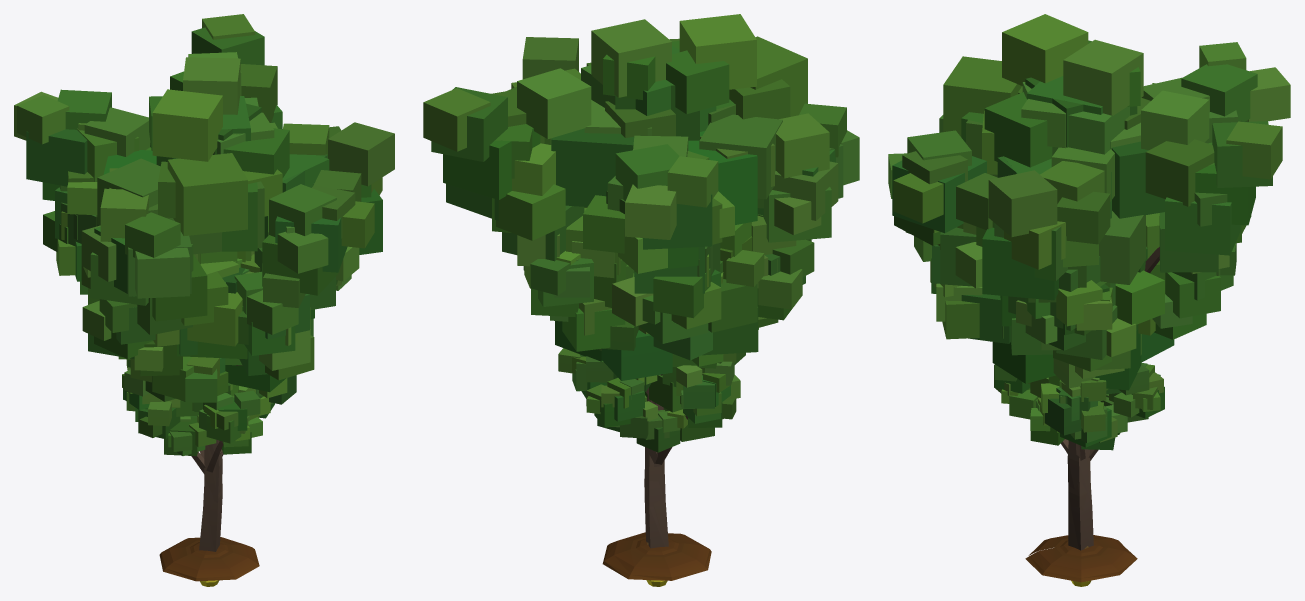
Rendered from pear.glb.
The picture shows the model from 3 angles, left to right: view 1: azimuth 30°, elevation 25°; view 2: azimuth 150°, elevation 25°; view 3: azimuth 270°, elevation 25°; orthographic projection. The views are drawn at different scales.
Parts seen in each view (by area): view 1: stage4_foliage, stage3_foliage, stage4_l1_foliage, stage2_foliage, stage2_soil, stage3_l1_foliage, stage2_l1_foliage, stage4_l1_bark, stage4_bark; view 2: stage4_foliage, stage3_foliage, stage4_l1_foliage, stage2_foliage, stage3_l1_foliage, stage2_soil, stage2_l1_foliage, stage4_bark, stage4_l1_bark; view 3: stage4_foliage, stage3_foliage, stage4_l1_foliage, stage2_foliage, stage2_soil, stage3_l1_foliage, stage2_l1_foliage, stage4_bark, stage4_l1_bark.
Boxes of the visible parts, x1,y1,x2,y2 form: stage4_foliage: [14, 14, 382, 355]; stage3_foliage: [43, 211, 351, 402]; stage4_l1_foliage: [55, 96, 394, 359]; stage2_foliage: [124, 369, 296, 455]; stage2_soil: [159, 537, 259, 581]; stage3_l1_foliage: [81, 251, 260, 401]; stage2_l1_foliage: [122, 360, 272, 456]; stage4_l1_bark: [199, 440, 222, 551]; stage4_bark: [203, 439, 222, 551]; stage4_foliage: [423, 14, 859, 307]; stage3_foliage: [517, 207, 814, 380]; stage4_l1_foliage: [522, 37, 843, 293]; stage2_foliage: [572, 354, 740, 452]; stage3_l1_foliage: [523, 250, 764, 368]; stage2_soil: [602, 532, 711, 580]; stage2_l1_foliage: [558, 348, 729, 441]; stage4_bark: [644, 397, 665, 548]; stage4_l1_bark: [644, 395, 668, 546]; stage4_foliage: [888, 14, 1290, 330]; stage3_foliage: [906, 213, 1236, 388]; stage4_l1_foliage: [961, 40, 1247, 302]; stage2_foliage: [994, 362, 1164, 449]; stage2_soil: [1025, 535, 1137, 582]; stage3_l1_foliage: [1040, 284, 1141, 390]; stage2_l1_foliage: [1059, 380, 1124, 450]; stage4_bark: [1067, 247, 1159, 550]; stage4_l1_bark: [1068, 449, 1090, 549].
Bounding box in the file's own units: 1.62 × 2.68 × 1.83.
